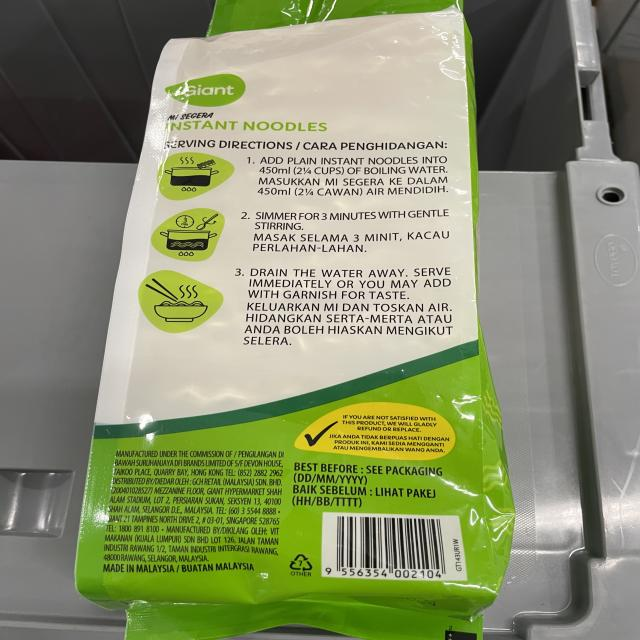object_name: (121, 3, 489, 618)
